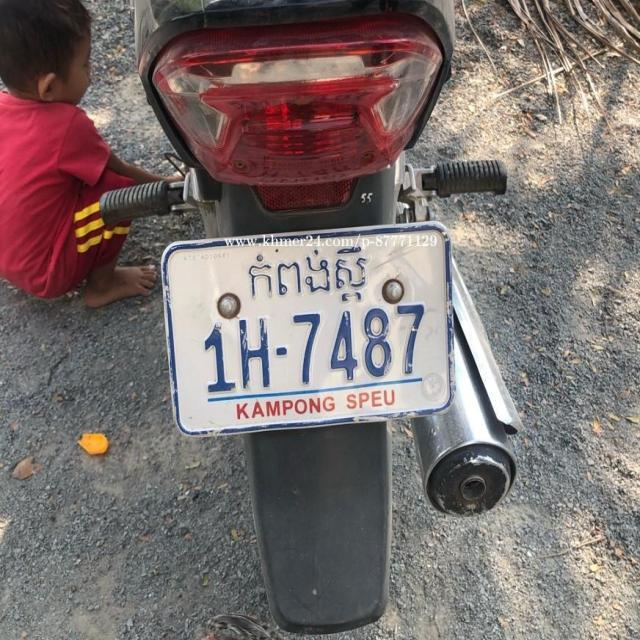Kampong_Speu: (249, 244, 374, 306)
